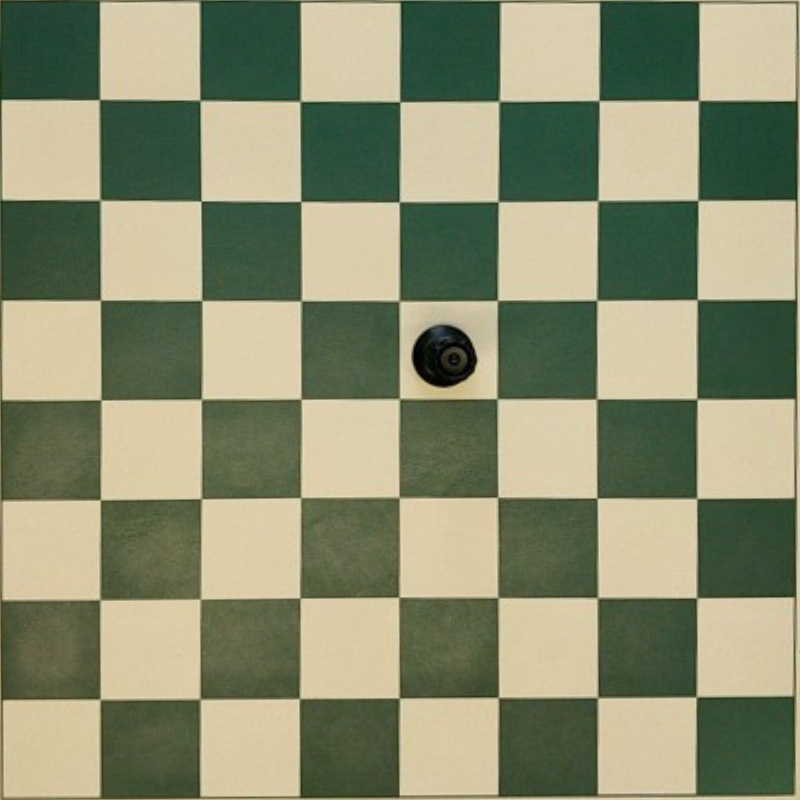black-queen: (412, 324, 478, 387)
